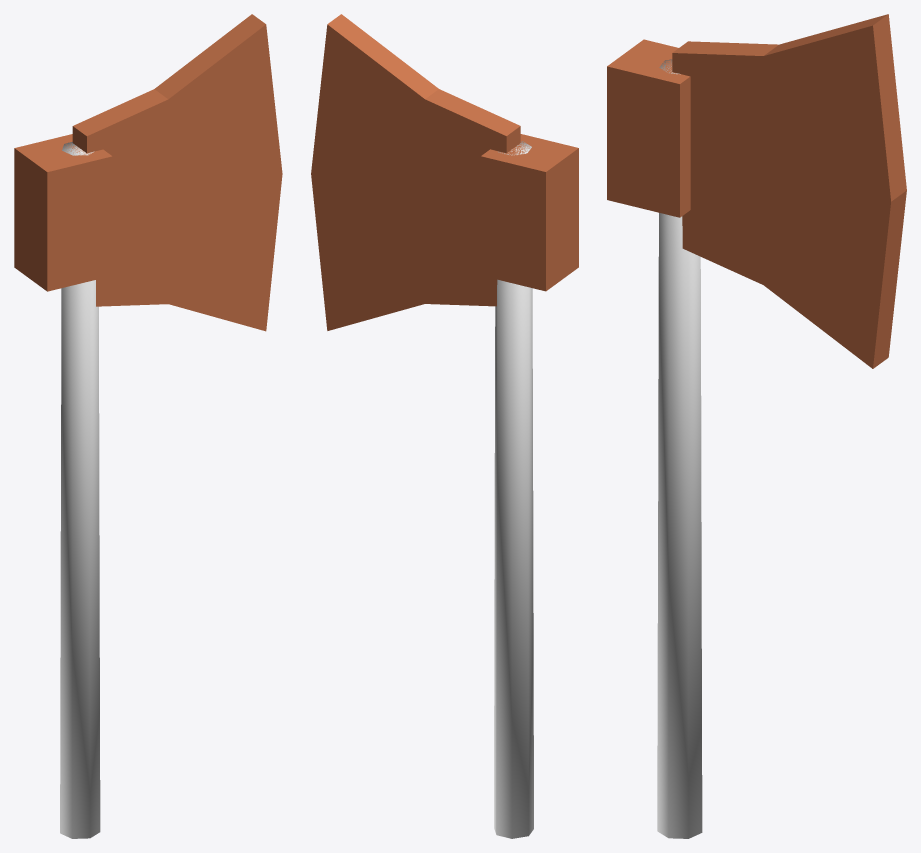
File: rosalite_axe.glb
3 views of the same model, side by side, from view 1: azimuth 30°, elevation 25°; view 2: azimuth 150°, elevation 25°; view 3: azimuth 330°, elevation 25° (orthographic). The views are drawn at different scales.
Parts seen in each view (by area): view 1: rosalite_axe_v0; view 2: rosalite_axe_v0; view 3: rosalite_axe_v0.
Boxes of the visible parts, bbox=[...] form: rosalite_axe_v0: bbox=[14, 14, 282, 838]; rosalite_axe_v0: bbox=[311, 14, 578, 838]; rosalite_axe_v0: bbox=[607, 14, 906, 838].
Size of the model in its own units: 0.3 by 0.9 by 0.07.
